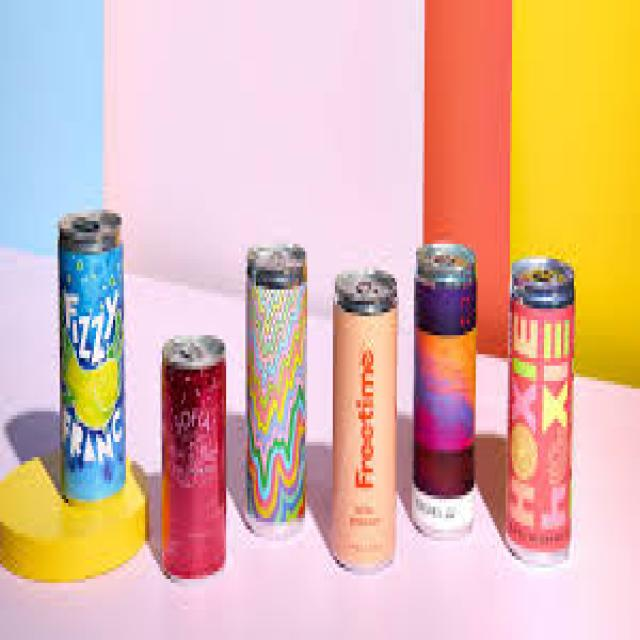Cans: (502, 252, 580, 572), (326, 259, 401, 583), (53, 202, 130, 510), (241, 236, 312, 537), (410, 236, 480, 541), (158, 328, 232, 586)
